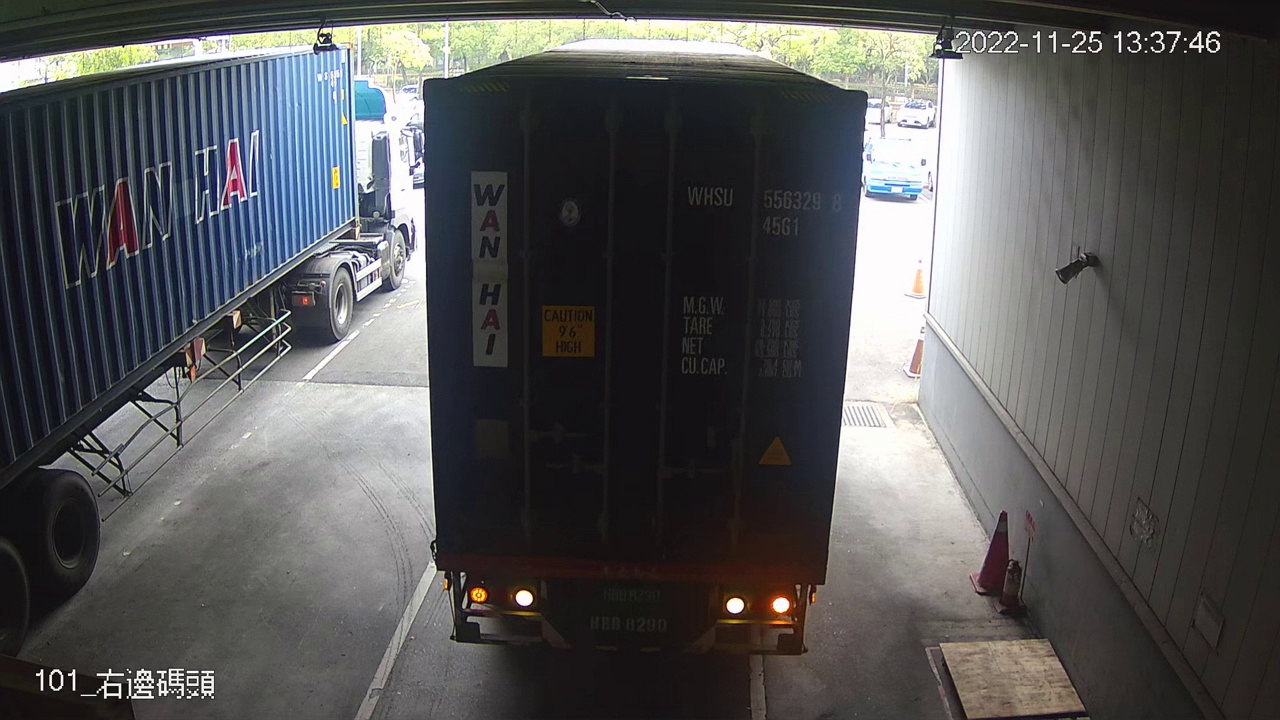container: (683, 175, 849, 244)
